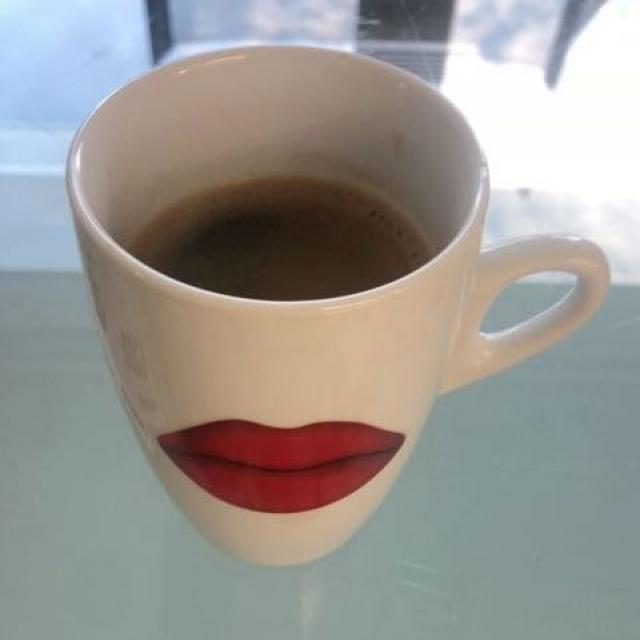coffee: (135, 178, 427, 300)
